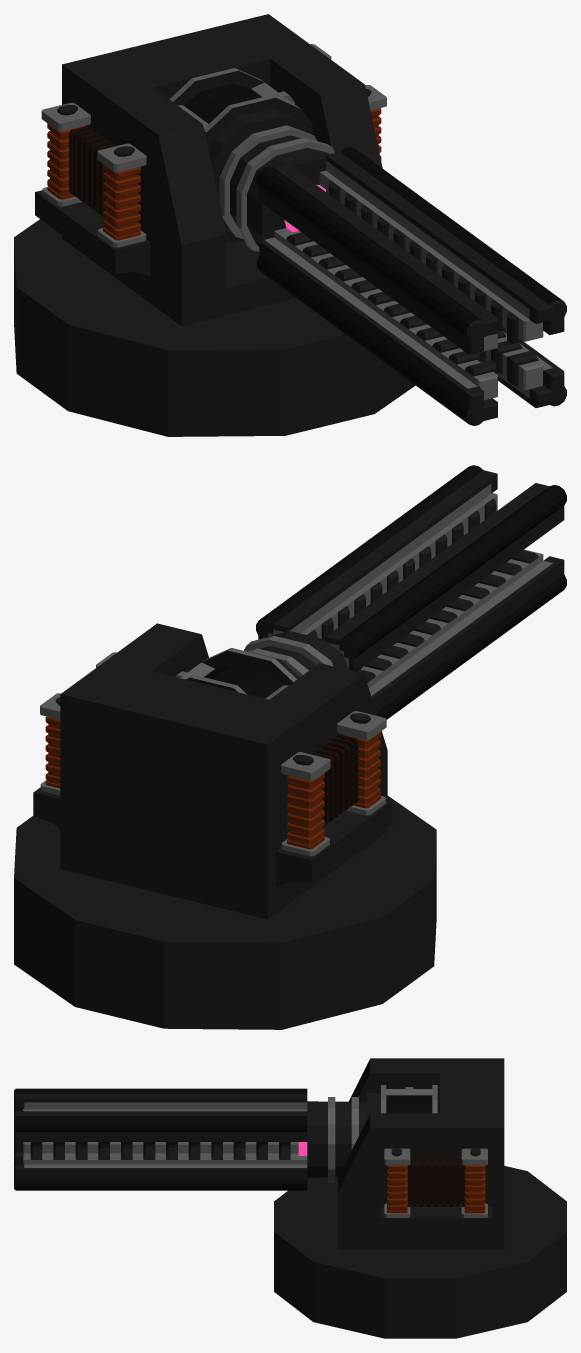
Rendered from railgun.fbx.
3 renders of one model, top to bottom at view 1: azimuth 30°, elevation 25°; view 2: azimuth 150°, elevation 25°; view 3: azimuth 270°, elevation 25°, orthographic. The views are drawn at different scales.
Parts seen in each view (by area): view 1: railgun_head, railgun_base; view 2: railgun_head, railgun_base; view 3: railgun_head, railgun_base.
Boxes of the visible parts, left/top/right/bottom form: railgun_head: left=35, top=14, right=566, bottom=425; railgun_base: left=14, top=219, right=415, bottom=436; railgun_head: left=33, top=465, right=566, bottom=919; railgun_base: left=14, top=796, right=436, bottom=1029; railgun_head: left=14, top=1058, right=504, bottom=1249; railgun_base: left=274, top=1166, right=566, bottom=1338.
Bounding box in the file's own units: 353 × 246 × 667.
